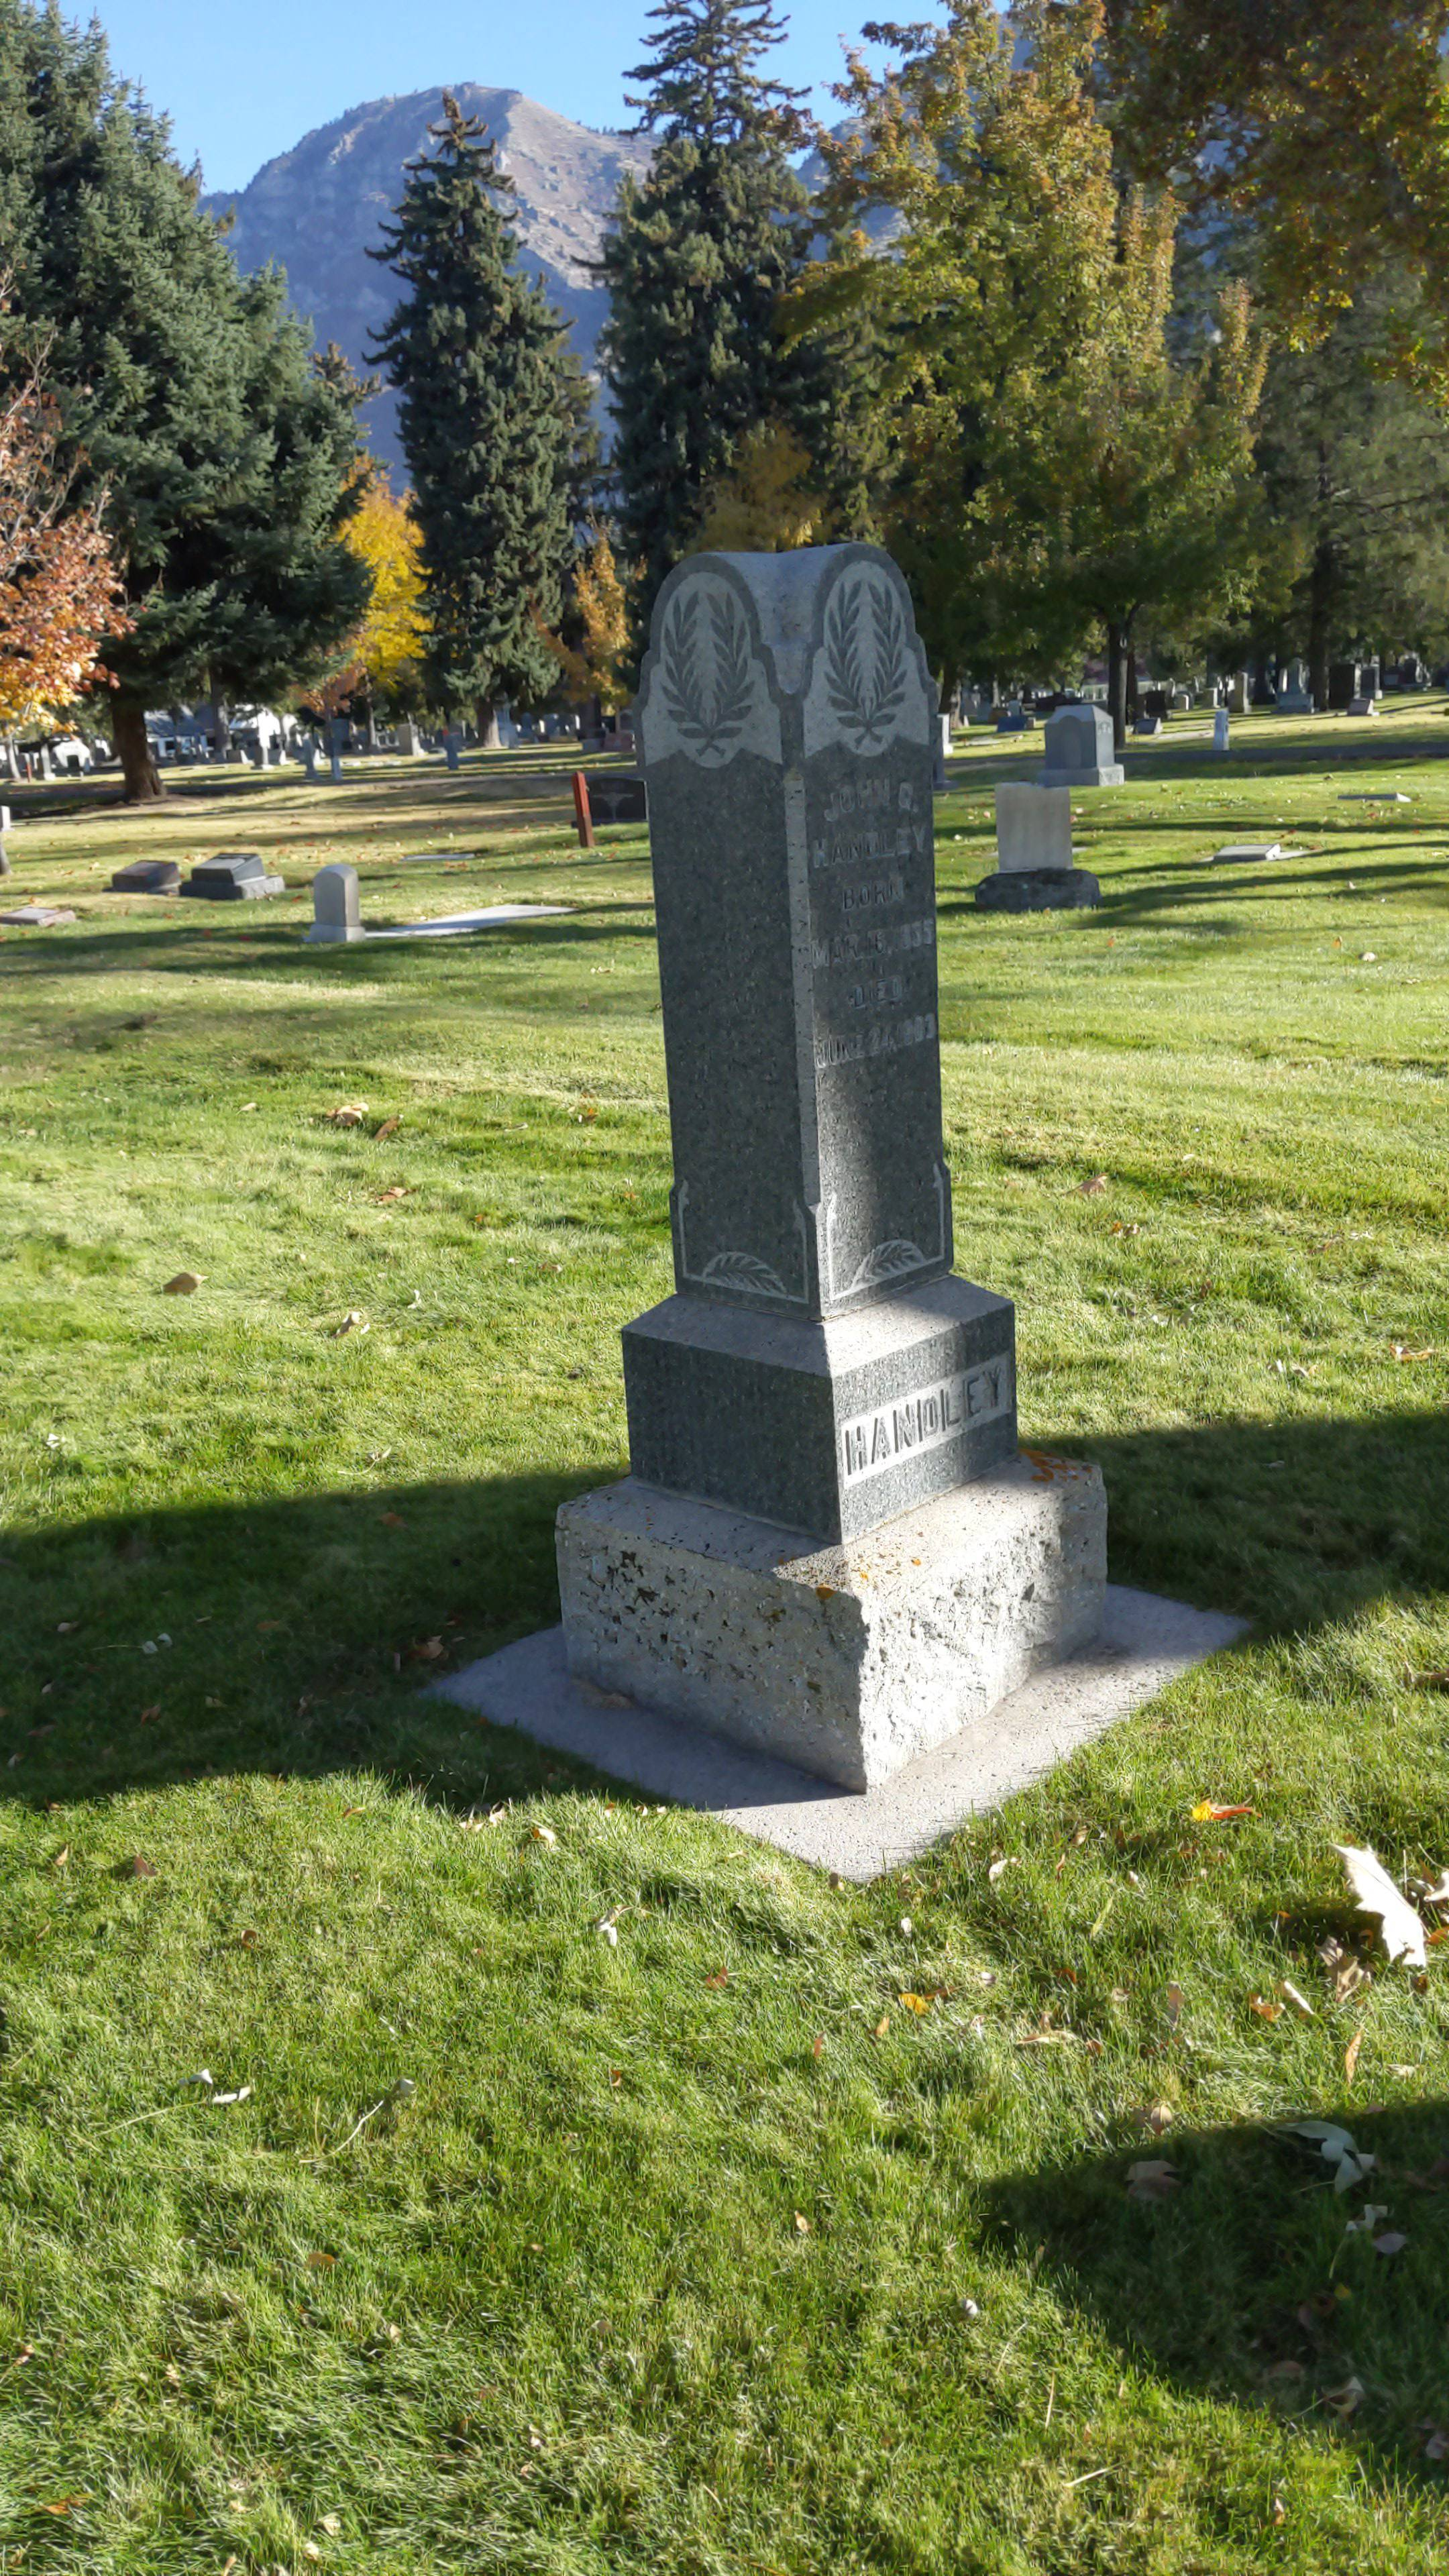obelisk: (616, 545, 1023, 1534)
